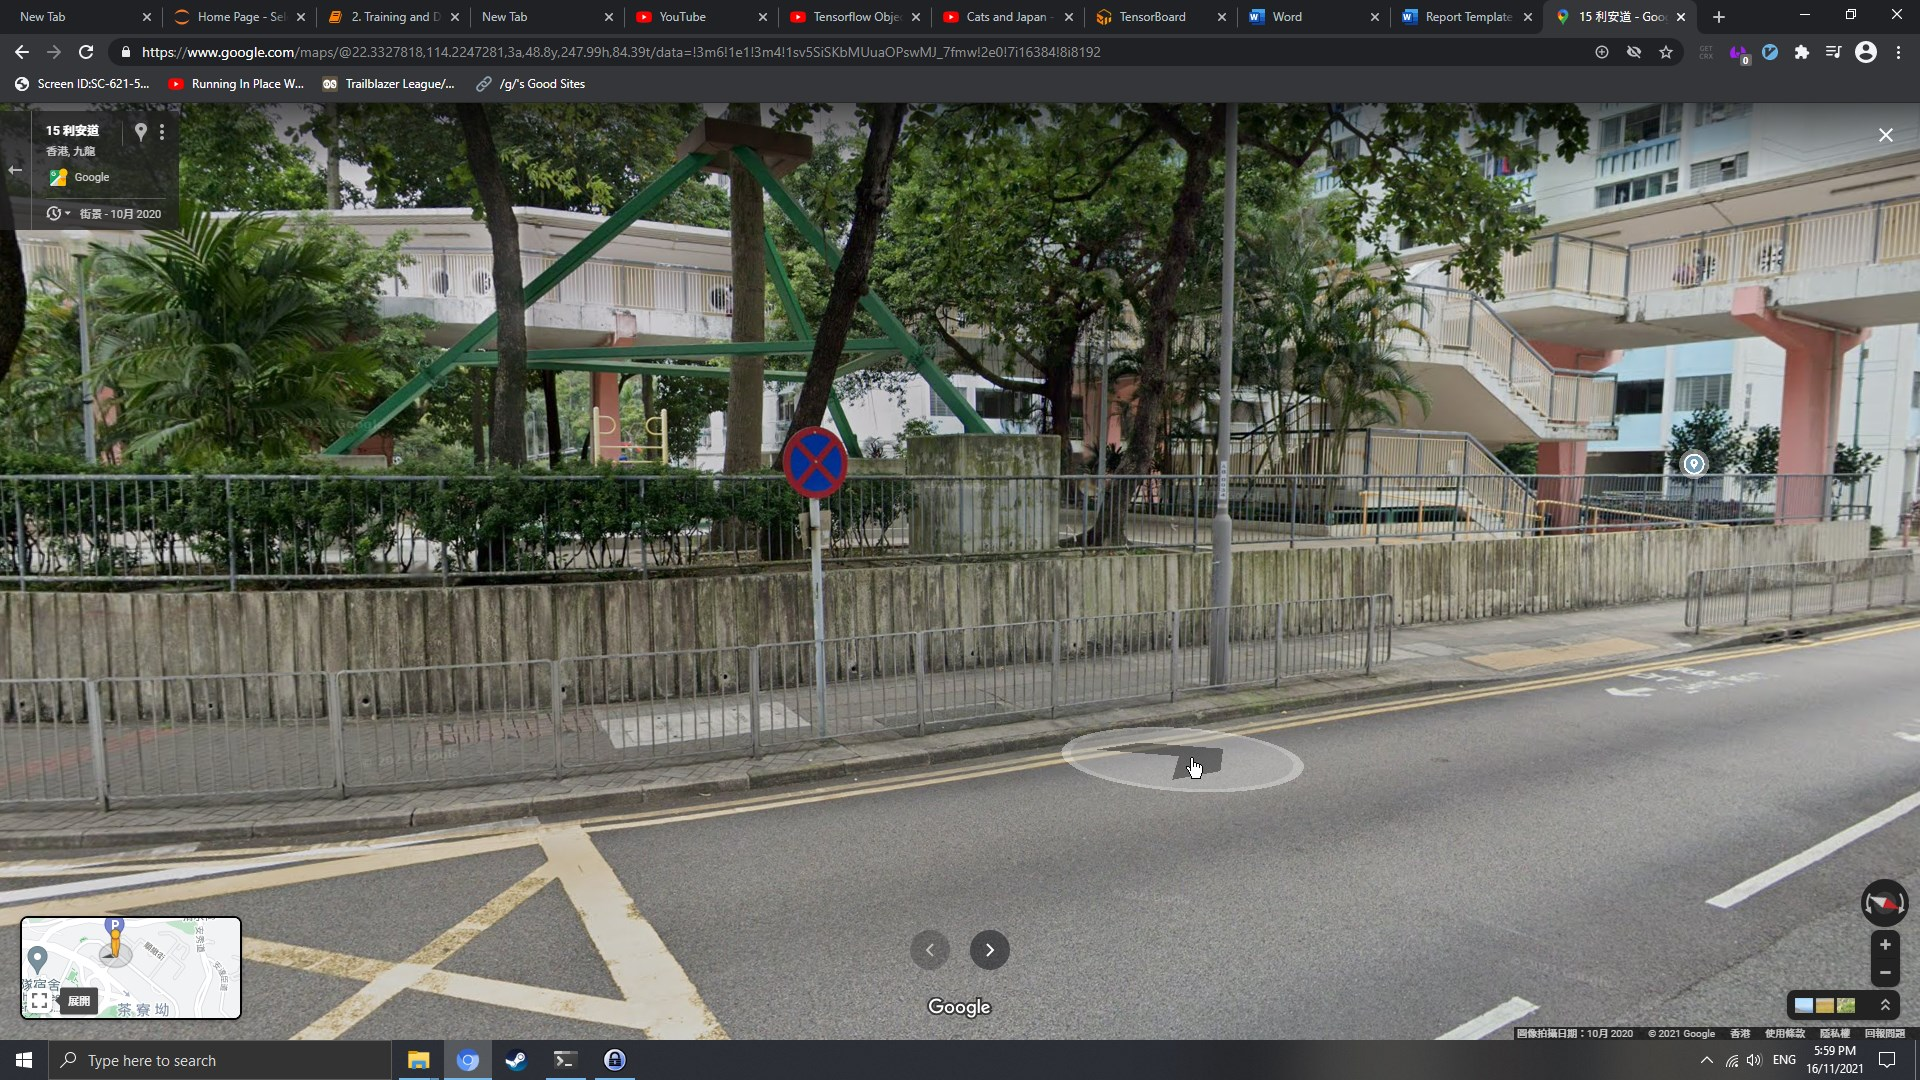NoStop: (782, 426, 848, 498)
